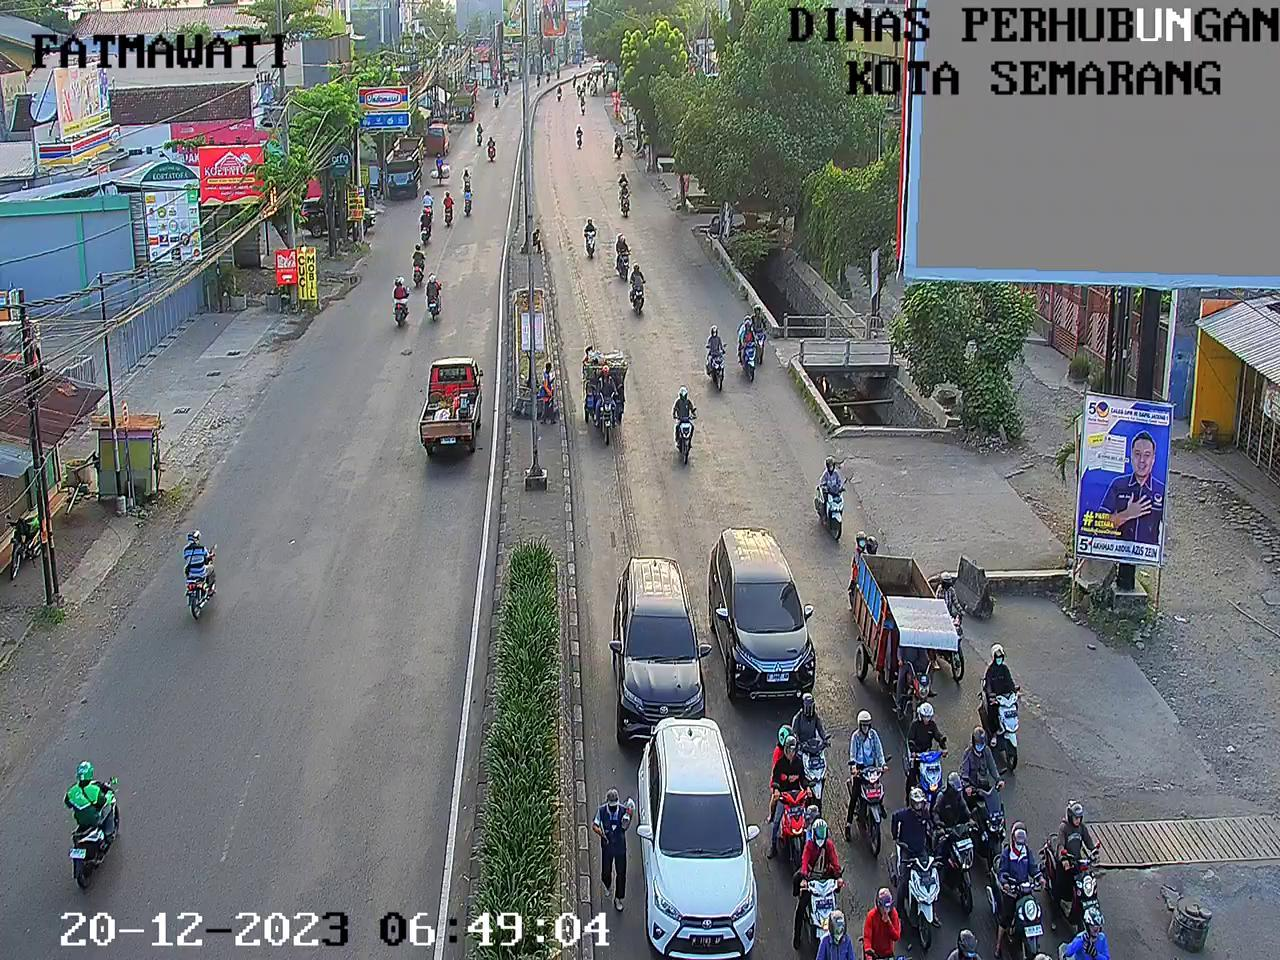car: (634, 718, 757, 960), (703, 525, 814, 710), (609, 551, 708, 748)
motorcycle: (841, 700, 903, 858), (1041, 797, 1111, 939), (885, 782, 939, 954), (768, 721, 823, 873), (975, 644, 1033, 782), (988, 833, 1048, 954), (956, 723, 1008, 864), (801, 820, 853, 958), (939, 767, 985, 922), (856, 880, 922, 960), (901, 702, 947, 809), (790, 689, 830, 806), (661, 385, 711, 476), (813, 453, 856, 543), (809, 902, 867, 960), (936, 574, 968, 675), (1065, 913, 1119, 960), (702, 322, 727, 404), (852, 528, 879, 598), (597, 369, 621, 447), (577, 214, 608, 268), (736, 313, 756, 388), (751, 295, 768, 378), (627, 267, 650, 317), (951, 924, 982, 960), (614, 232, 635, 279), (575, 90, 604, 117), (610, 170, 636, 198), (608, 129, 629, 157), (617, 189, 637, 213), (569, 122, 587, 149), (554, 88, 571, 106), (566, 76, 578, 91)
